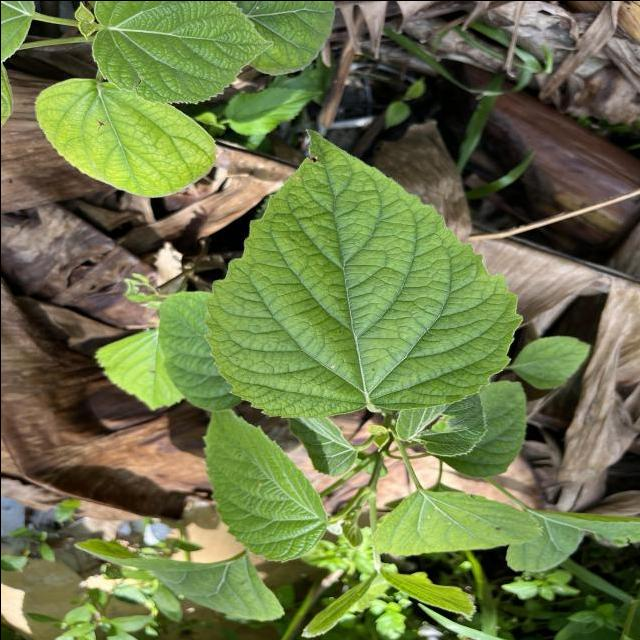Clerodendrum infortunatum: (201, 124, 524, 418), (32, 74, 218, 200), (201, 407, 331, 563), (90, 0, 275, 104), (368, 486, 544, 557), (395, 385, 488, 457)
